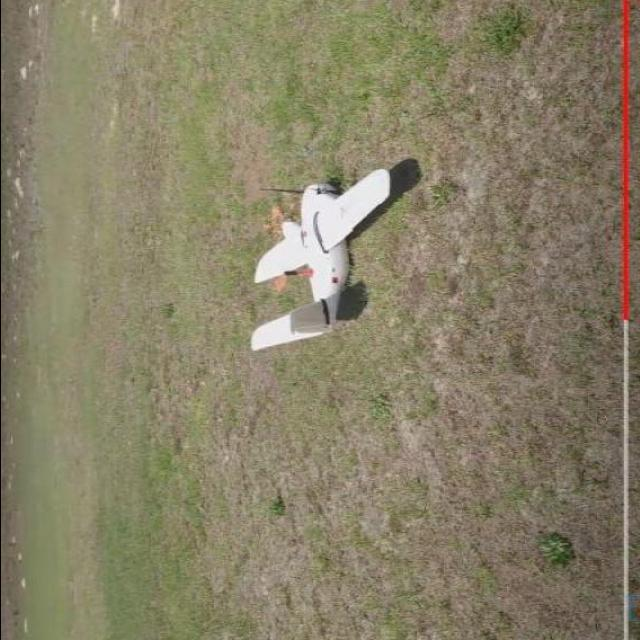plane: (246, 166, 392, 352)
